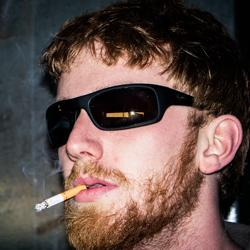smoking: (34, 174, 120, 214)
